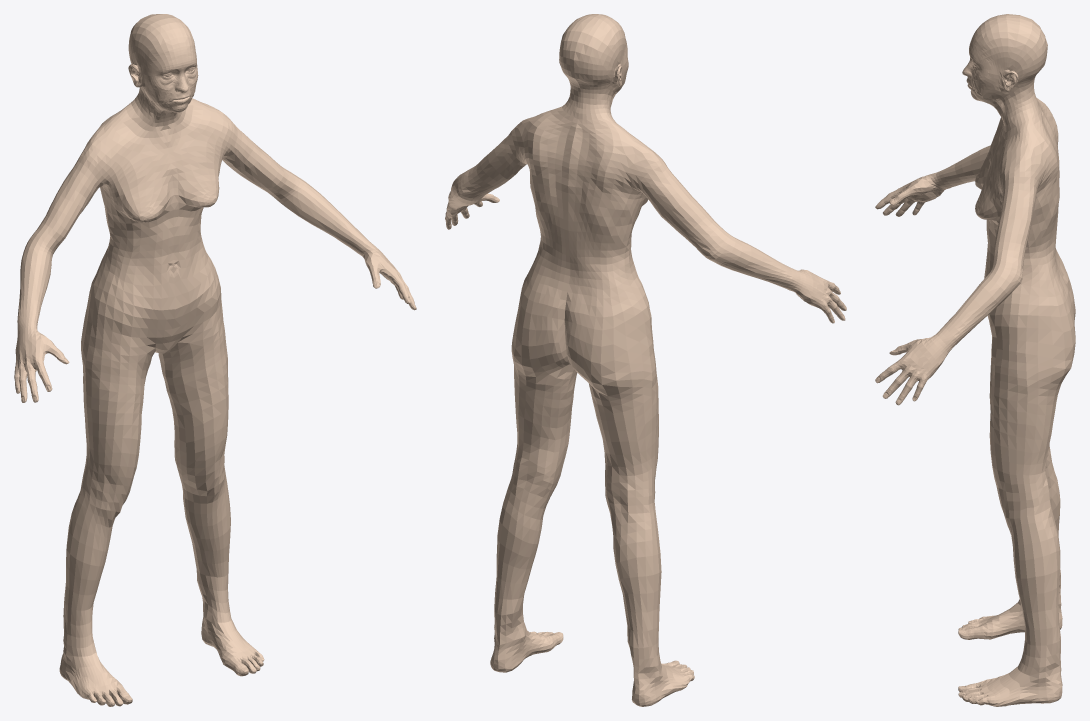
File: female-elder-fit-strong.glb
The picture shows the model from 3 angles, left to right: view 1: azimuth 30°, elevation 25°; view 2: azimuth 150°, elevation 25°; view 3: azimuth 270°, elevation 25°; orthographic projection.
Parts seen in each view (by area): view 1: world; view 2: world; view 3: world.
Boxes of the visible parts, box(x1,y1,x2,y2) form: world: box(14, 14, 416, 706); world: box(445, 14, 846, 706); world: box(875, 14, 1075, 706).
Size of the model in its own units: 1.13 by 1.8 by 0.5036.
